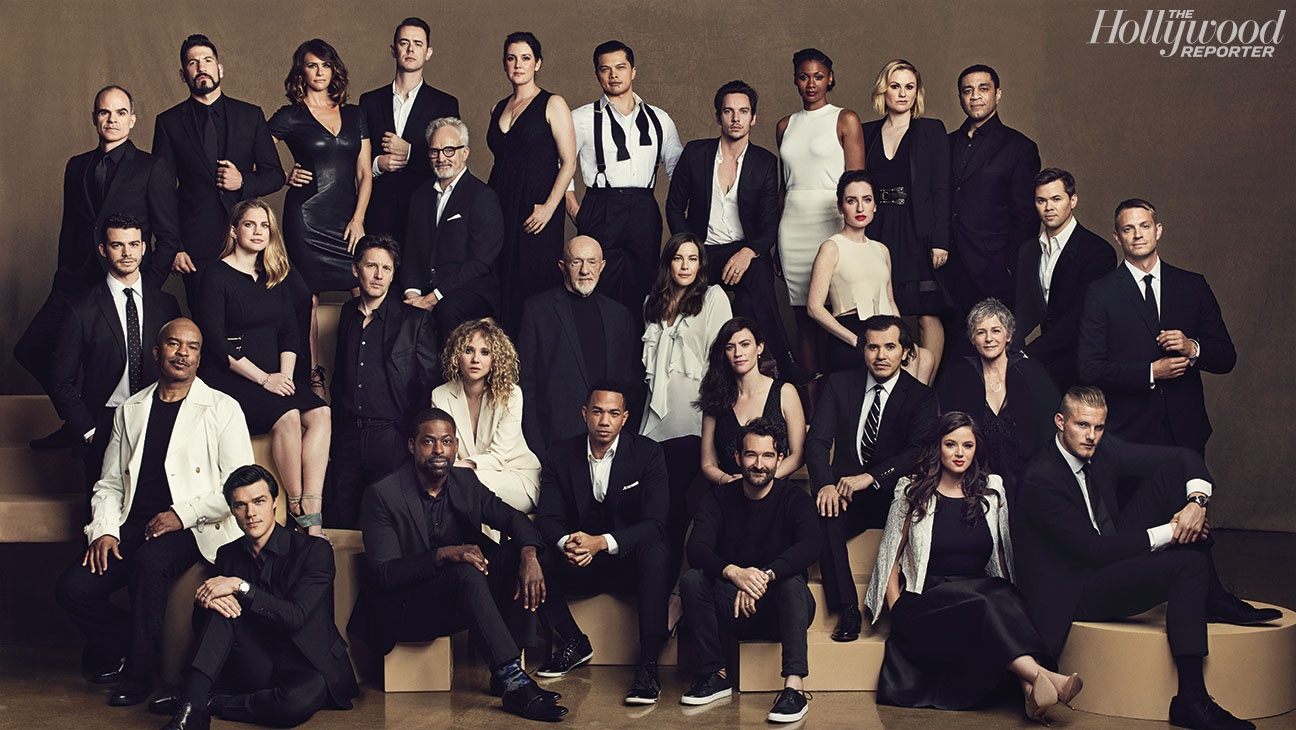bad: (1068, 410, 1111, 454), (160, 334, 204, 377), (583, 401, 626, 444), (1116, 214, 1159, 257), (861, 334, 904, 377), (103, 233, 146, 276), (415, 430, 458, 473), (228, 487, 271, 530), (717, 102, 753, 138), (941, 434, 977, 470), (841, 190, 877, 226), (457, 342, 493, 378), (957, 78, 993, 114), (1033, 186, 1069, 222), (793, 66, 829, 102), (237, 214, 273, 250), (665, 250, 701, 286), (741, 446, 777, 482), (93, 102, 129, 138), (969, 322, 1005, 358), (885, 74, 921, 110), (593, 54, 629, 90), (497, 46, 533, 82), (393, 34, 429, 70), (721, 334, 757, 370), (565, 254, 601, 290), (357, 258, 393, 294), (421, 138, 457, 174), (181, 50, 217, 86), (301, 54, 337, 90)
